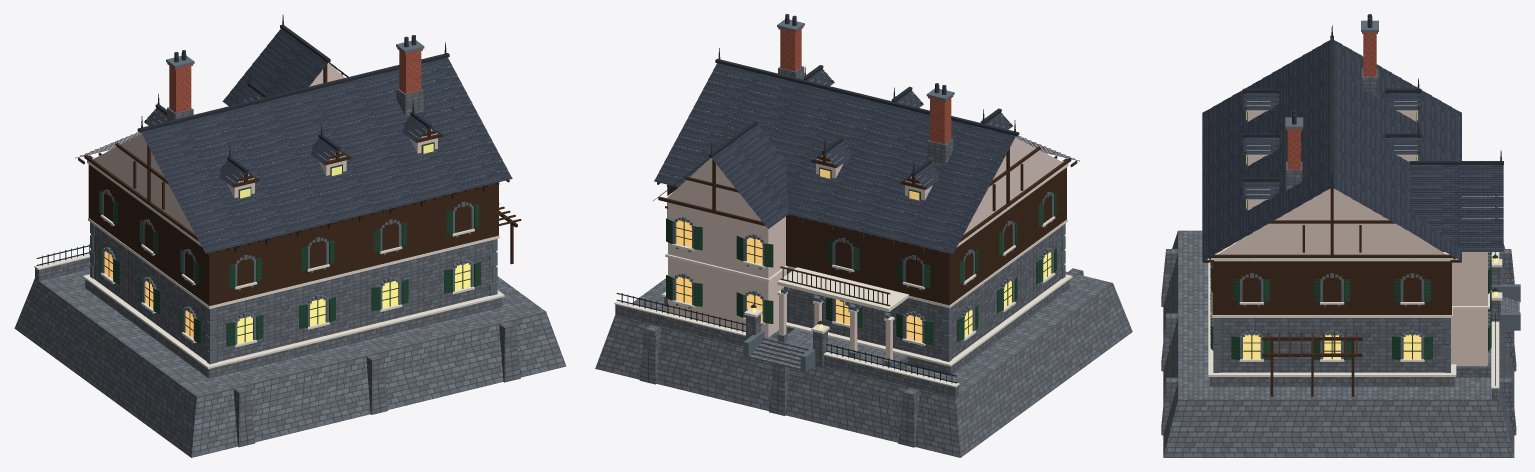
Rendered from fv_nvt_09_nguyen_van_troi_48_savoy_brittany_manor.glb.
3 views of the same model, side by side, from view 1: azimuth 30°, elevation 25°; view 2: azimuth 150°, elevation 25°; view 3: azimuth 270°, elevation 25° (orthographic). The views are drawn at different scales.
Parts seen in each view (by area): view 1: Foundation_Skirt_Neg3p5m, Normandy_Brittany_Layered_Roof, Exposed_Timber_Trusses_And_Rafters, Molded_Cornices_And_Sills, PineGreen_Louvered_Shutters, Stone_Quoins_And_Arches, Villa_Stucco_Walls, Roof_Ridges_Caps_And_Finials, Warm_Night_Windows_20h00_Blend, Brick_Chimney_Stacks; view 2: Foundation_Skirt_Neg3p5m, Normandy_Brittany_Layered_Roof, Exposed_Timber_Trusses_And_Rafters, Villa_Stucco_Walls, Molded_Cornices_And_Sills, Stone_Quoins_And_Arches, PineGreen_Louvered_Shutters, Roof_Ridges_Caps_And_Finials, Warm_Night_Windows_20h00_Blend, Brick_Chimney_Stacks, Wrought_Iron_Balustrades_And_Gate; view 3: Foundation_Skirt_Neg3p5m, Normandy_Brittany_Layered_Roof, Exposed_Timber_Trusses_And_Rafters, Villa_Stucco_Walls, Molded_Cornices_And_Sills, Stone_Quoins_And_Arches, PineGreen_Louvered_Shutters, Roof_Ridges_Caps_And_Finials, Warm_Night_Windows_20h00_Blend, Brick_Chimney_Stacks.
Part boxes in pixels (bbox=[...]): Foundation_Skirt_Neg3p5m: bbox=[14, 88, 566, 457]; Normandy_Brittany_Layered_Roof: bbox=[141, 29, 512, 253]; Exposed_Timber_Trusses_And_Rafters: bbox=[78, 64, 521, 306]; Molded_Cornices_And_Sills: bbox=[34, 94, 504, 368]; PineGreen_Louvered_Shutters: bbox=[98, 142, 480, 346]; Stone_Quoins_And_Arches: bbox=[90, 40, 497, 364]; Villa_Stucco_Walls: bbox=[93, 62, 437, 233]; Roof_Ridges_Caps_And_Finials: bbox=[75, 14, 449, 180]; Warm_Night_Windows_20h00_Blend: bbox=[104, 143, 470, 343]; Brick_Chimney_Stacks: bbox=[167, 48, 422, 112]; Foundation_Skirt_Neg3p5m: bbox=[595, 66, 1132, 457]; Normandy_Brittany_Layered_Roof: bbox=[654, 14, 1015, 254]; Exposed_Timber_Trusses_And_Rafters: bbox=[657, 69, 1077, 306]; Villa_Stucco_Walls: bbox=[667, 95, 1062, 361]; Molded_Cornices_And_Sills: bbox=[614, 79, 1072, 387]; Stone_Quoins_And_Arches: bbox=[673, 19, 1065, 372]; PineGreen_Louvered_Shutters: bbox=[666, 167, 1057, 344]; Roof_Ridges_Caps_And_Finials: bbox=[653, 48, 1079, 200]; Warm_Night_Windows_20h00_Blend: bbox=[676, 169, 1051, 342]; Brick_Chimney_Stacks: bbox=[778, 26, 953, 144]; Wrought_Iron_Balustrades_And_Gate: bbox=[616, 293, 957, 383]; Foundation_Skirt_Neg3p5m: bbox=[1161, 68, 1519, 457]; Normandy_Brittany_Layered_Roof: bbox=[1202, 14, 1503, 260]; Exposed_Timber_Trusses_And_Rafters: bbox=[1202, 93, 1497, 396]; Villa_Stucco_Walls: bbox=[1218, 111, 1487, 365]; Molded_Cornices_And_Sills: bbox=[1208, 101, 1502, 388]; Stone_Quoins_And_Arches: bbox=[1211, 20, 1520, 372]; PineGreen_Louvered_Shutters: bbox=[1210, 111, 1491, 359]; Roof_Ridges_Caps_And_Finials: bbox=[1243, 25, 1503, 188]; Warm_Night_Windows_20h00_Blend: bbox=[1243, 111, 1497, 358]; Brick_Chimney_Stacks: bbox=[1286, 32, 1377, 169].
Size of the model in its own units: 26.73 by 20.5 by 21.93.
12 materials, 3 textured.
